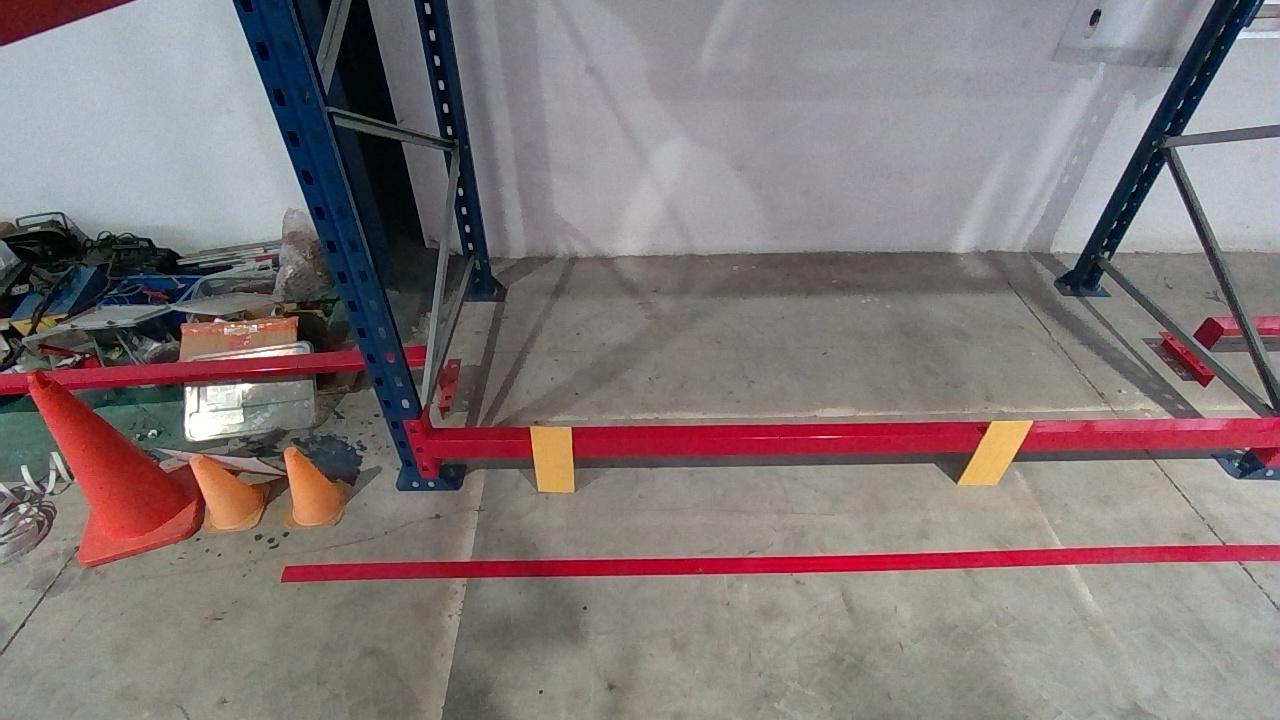h_rack: (427, 428, 1279, 457)
orange_strip: (953, 420, 1037, 486), (529, 426, 575, 491)
red_line: (278, 545, 1277, 579)
